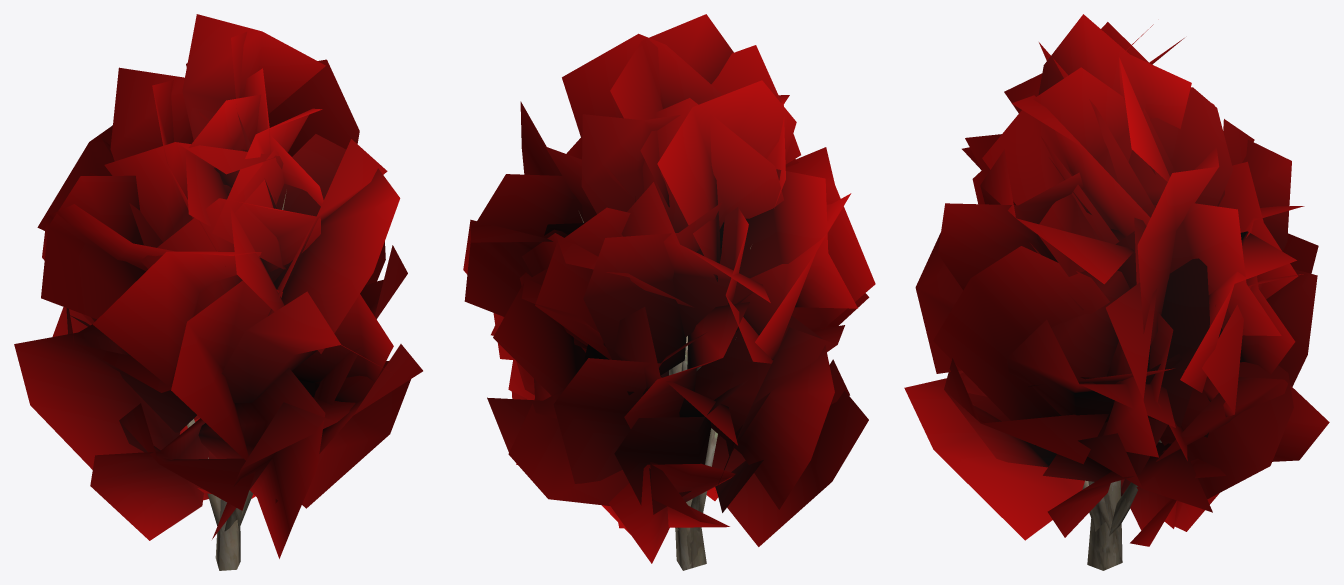
Rendered from SM_Com_Shr_06AS.fbx.
3 views of the same model, side by side, from view 1: azimuth 30°, elevation 25°; view 2: azimuth 150°, elevation 25°; view 3: azimuth 270°, elevation 25° (orthographic). The views are drawn at different scales.
Visible parts, largest first — view 1: SM_Com_Shr_06AS.mo; view 2: SM_Com_Shr_06AS.mo; view 3: SM_Com_Shr_06AS.mo.
Boxes of the visible parts, <box> form: SM_Com_Shr_06AS.mo: <box>14,14,422,570</box>; SM_Com_Shr_06AS.mo: <box>463,14,875,570</box>; SM_Com_Shr_06AS.mo: <box>904,14,1329,570</box>.
Size of the model in its own units: 1.59 by 2.23 by 1.57.
